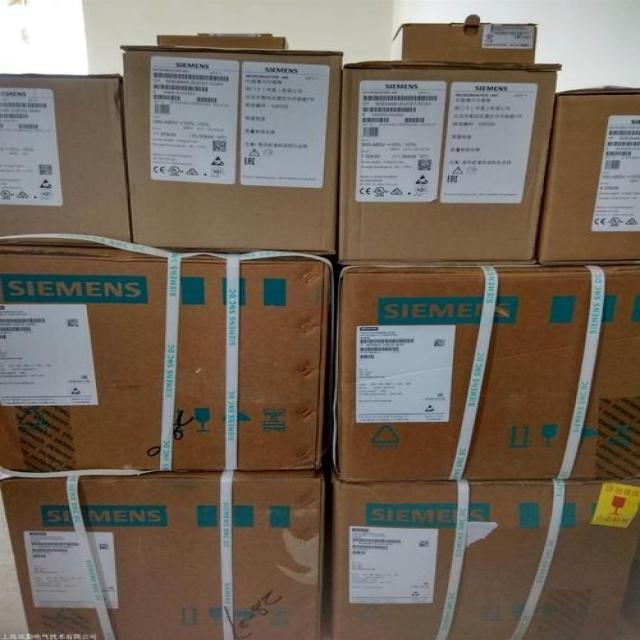box: (0, 247, 330, 470), (337, 266, 640, 481), (0, 471, 324, 639), (332, 480, 640, 640), (120, 45, 343, 253), (339, 60, 563, 265), (0, 73, 131, 249), (534, 84, 640, 266), (389, 14, 538, 62), (157, 36, 289, 48), (197, 33, 271, 36)
